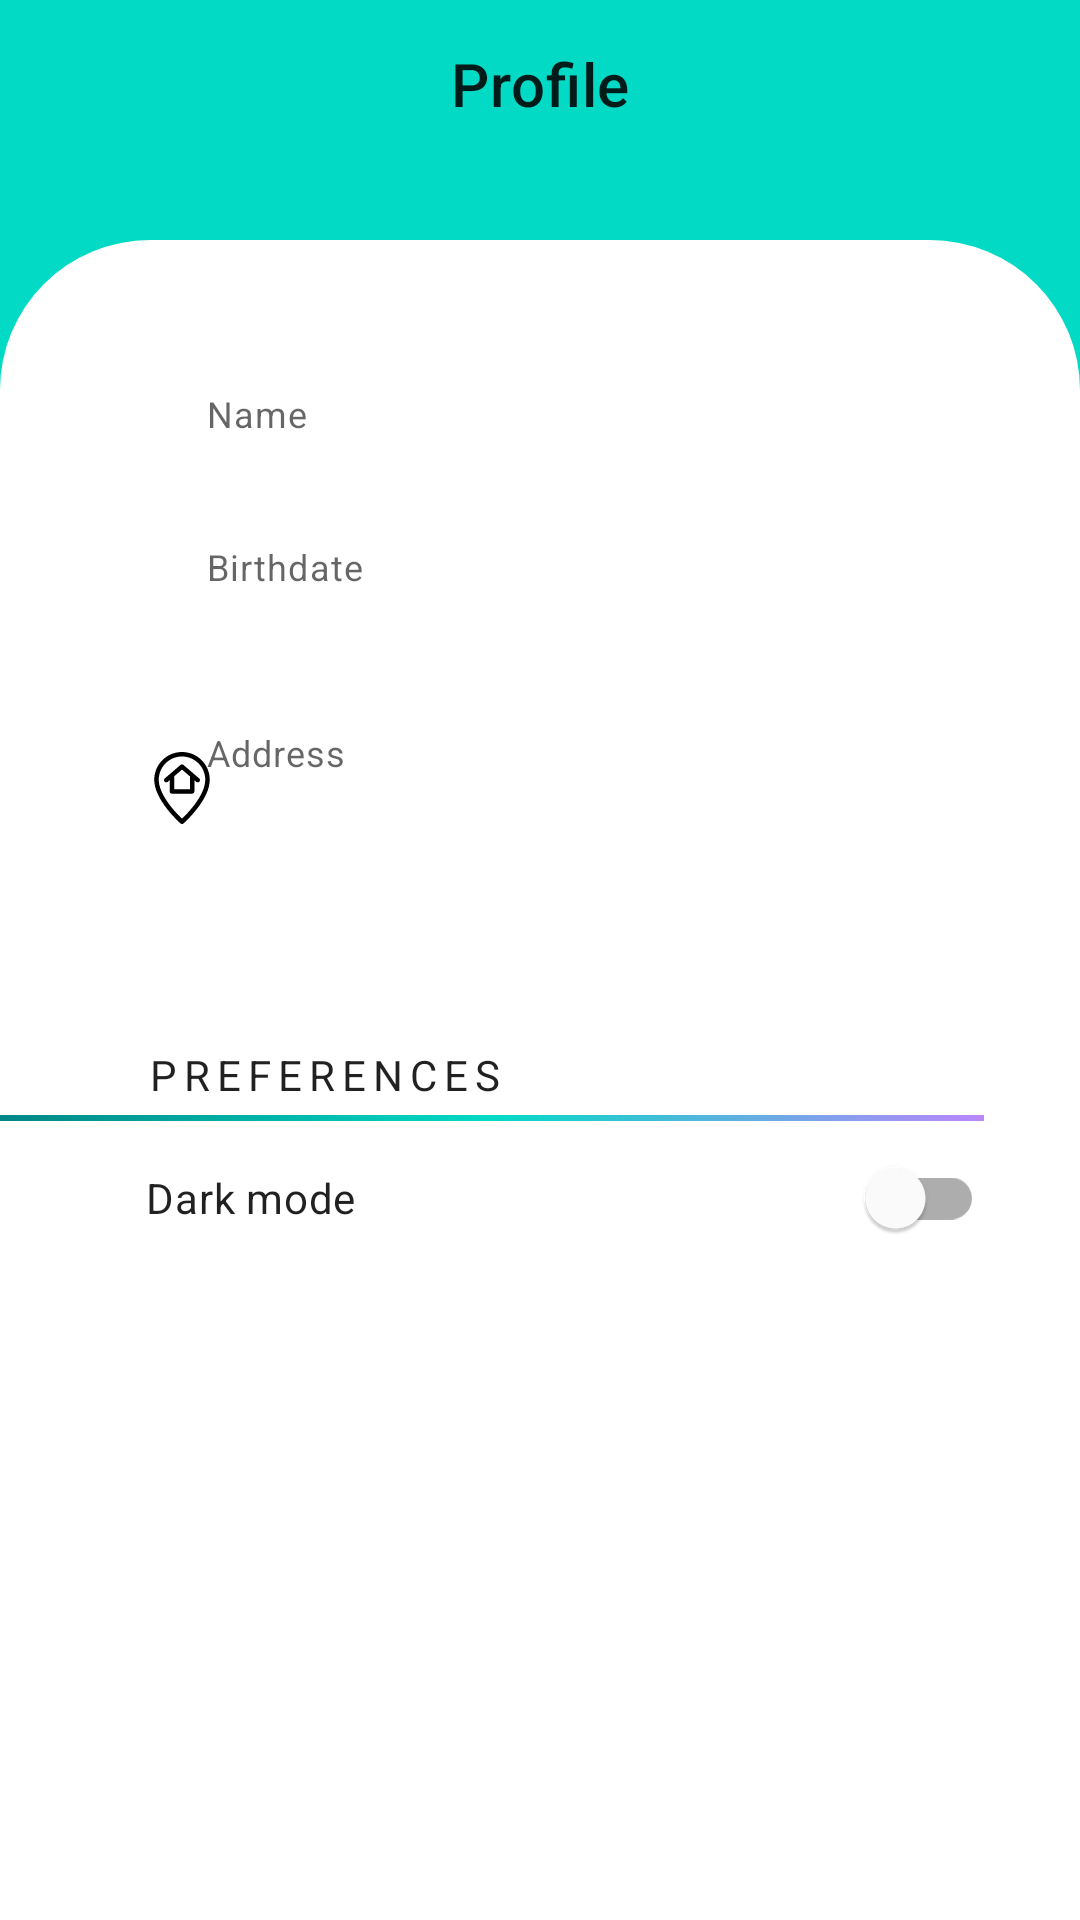

Named icons in this screenshot (1080px x 1920px) and their centers, (x,y):
Location home icon: (186,788)
